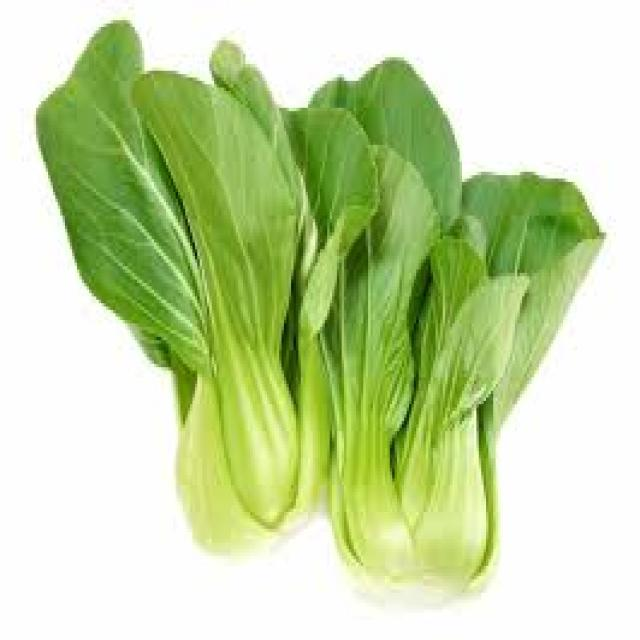bokchoy: (32, 18, 612, 597)
